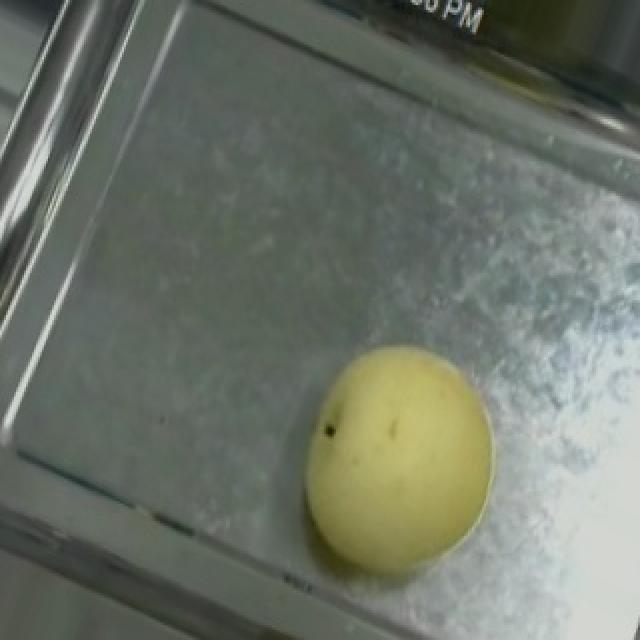Fruit: (252, 300, 538, 618)
